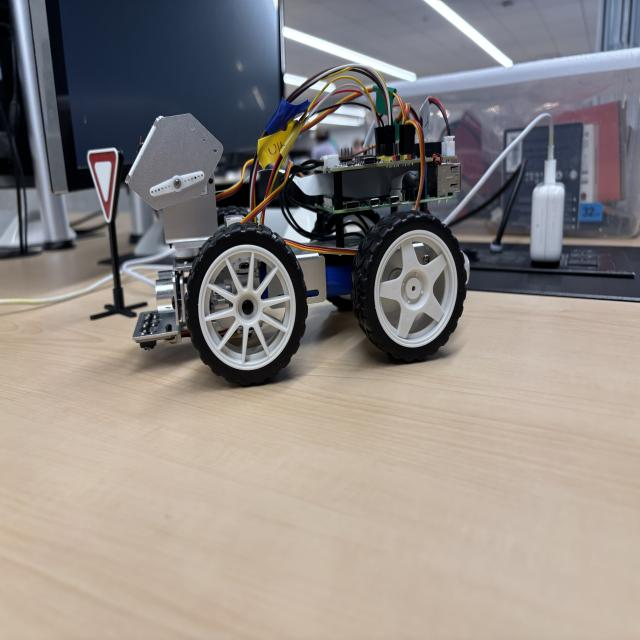sign_yield: (86, 146, 119, 220)
vehicle: (134, 62, 469, 375)
